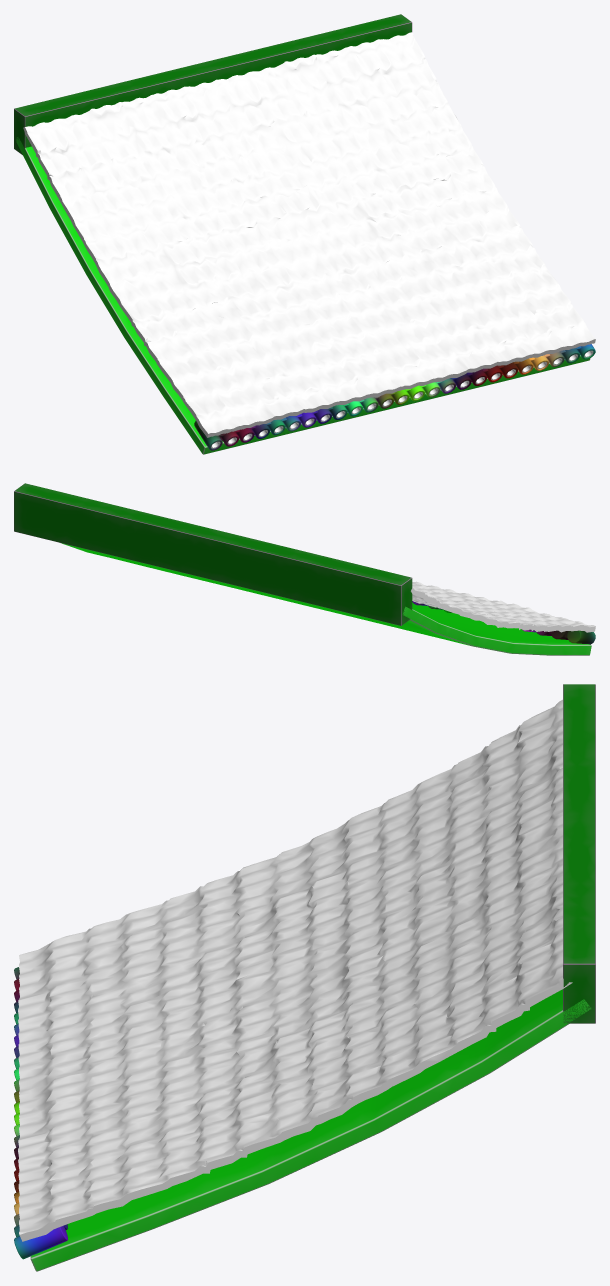
The model's file is roof_side_400x300_01_middle.fbx.
3 renders of one model, top to bottom at view 1: azimuth 30°, elevation 25°; view 2: azimuth 150°, elevation 25°; view 3: azimuth 270°, elevation 25°, orthographic. The views are drawn at different scales.
Visible parts, largest first — view 1: roof_side_400x300_01_middle; view 2: roof_side_400x300_01_middle; view 3: roof_side_400x300_01_middle.
Boxes of the visible parts, x1=… form: roof_side_400x300_01_middle: x1=14, y1=14, x2=595, y2=454; roof_side_400x300_01_middle: x1=14, y1=483, x2=595, y2=655; roof_side_400x300_01_middle: x1=14, y1=684, x2=595, y2=1271.
Bounding box in the file's own units: 4 × 2.05 × 3.51.
